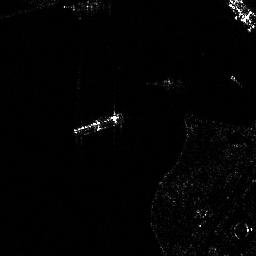ship: (71, 111, 124, 135)
